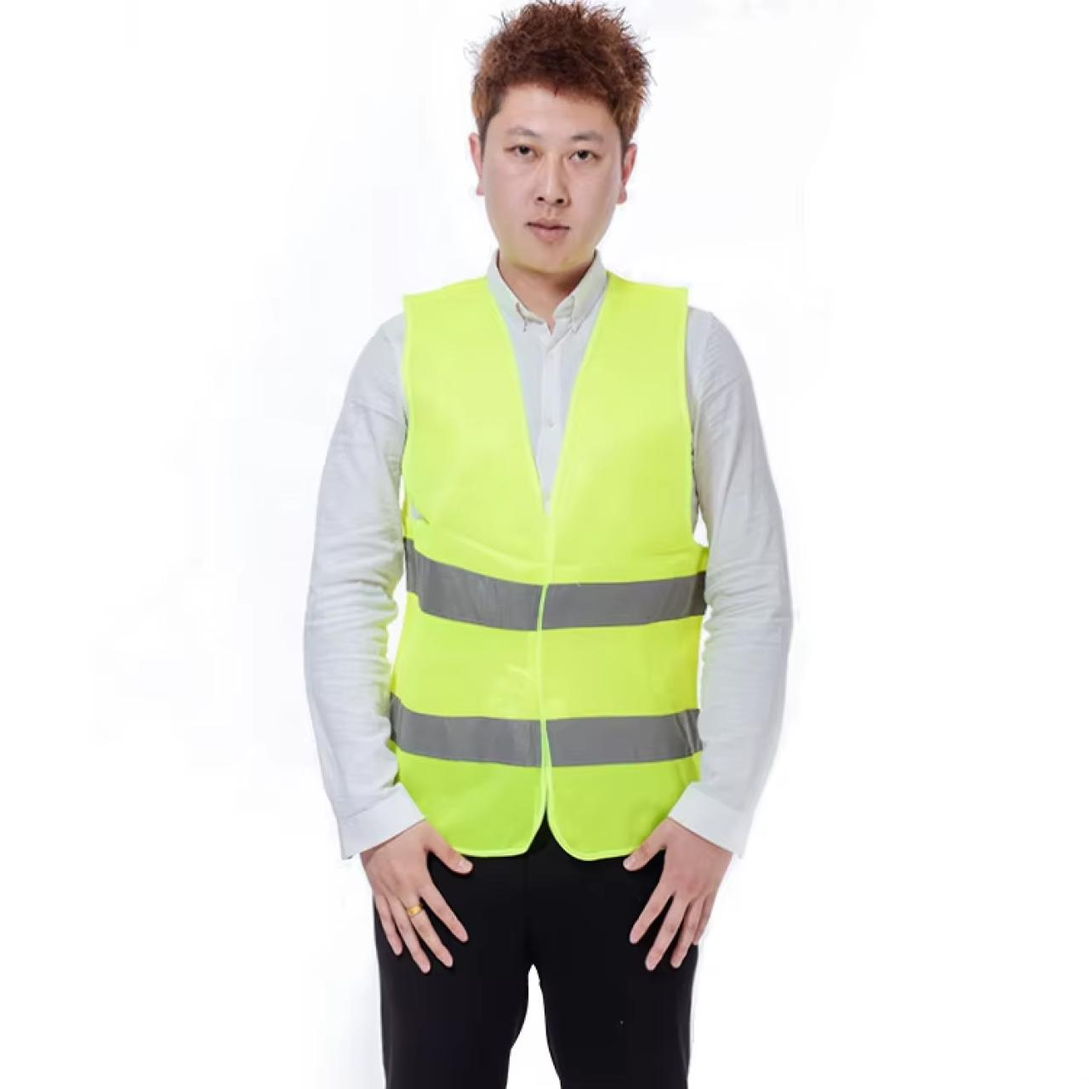Person: (261, 0, 836, 1089)
Safety_Vest: (387, 260, 704, 863)
